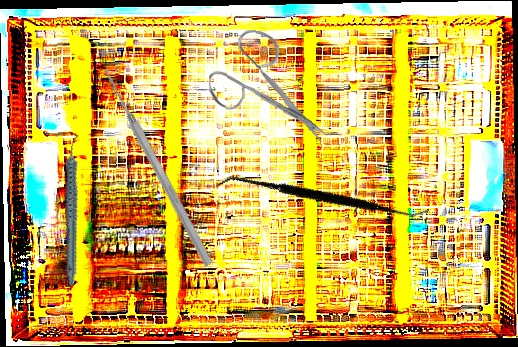Handpiece: (36, 133, 112, 287)
Iris Scissors: (207, 28, 332, 143)
Pusher: (99, 66, 216, 268)
Spatula Surgical: (215, 111, 431, 286)
